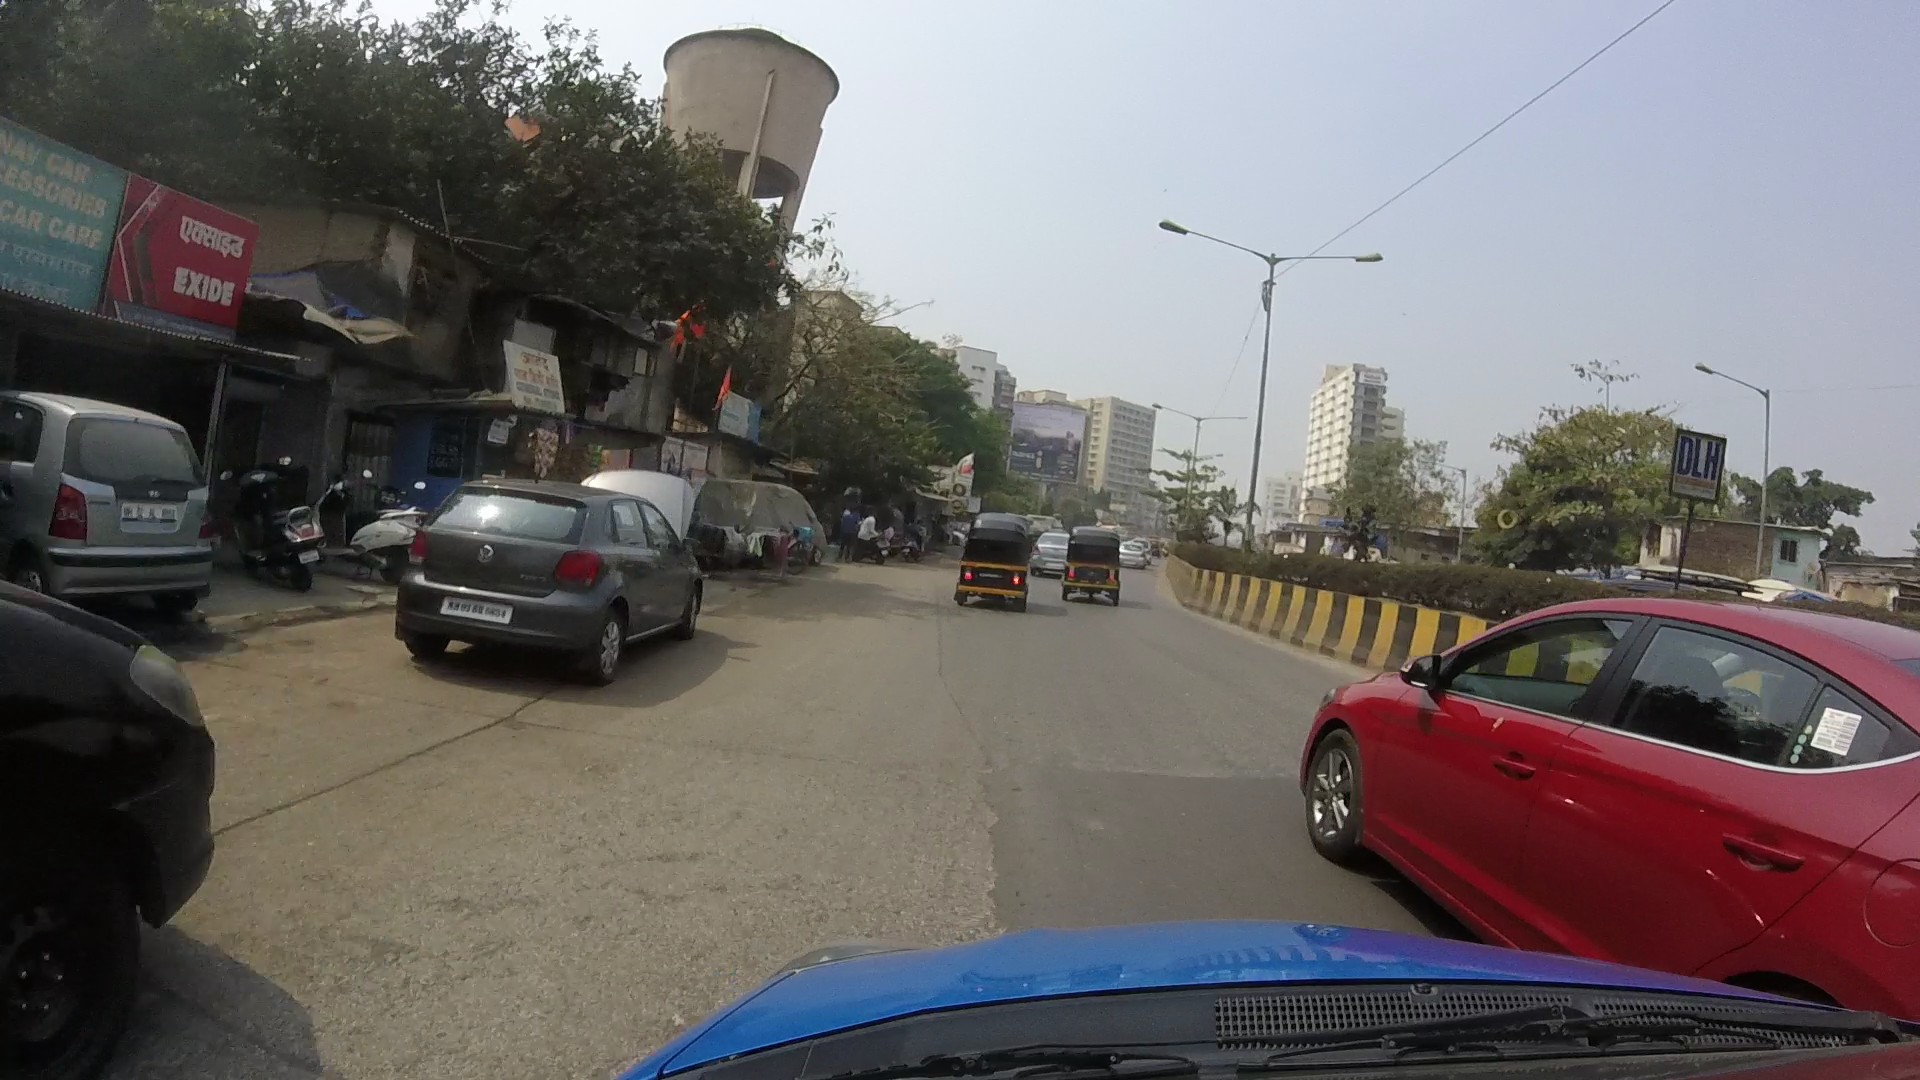car: (1294, 604, 1911, 1027), (16, 583, 214, 953), (405, 472, 699, 676), (18, 392, 222, 613)
rickshaw: (956, 512, 1031, 604), (1058, 524, 1125, 601)
